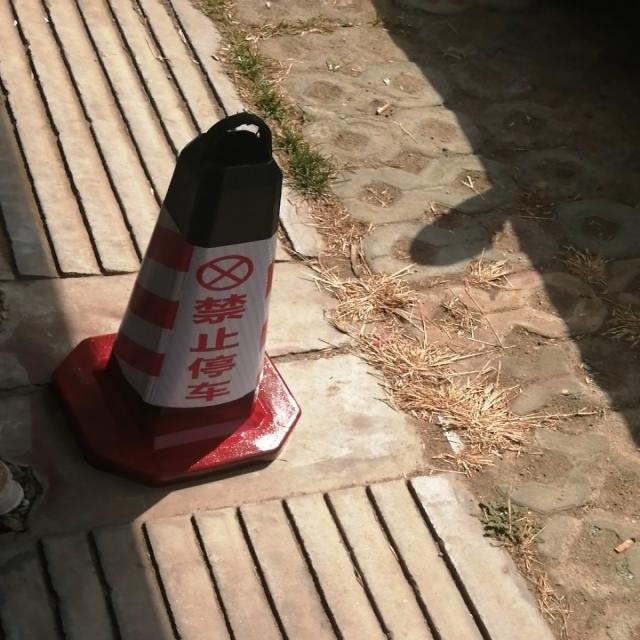reflective_cone: (52, 111, 300, 480)
